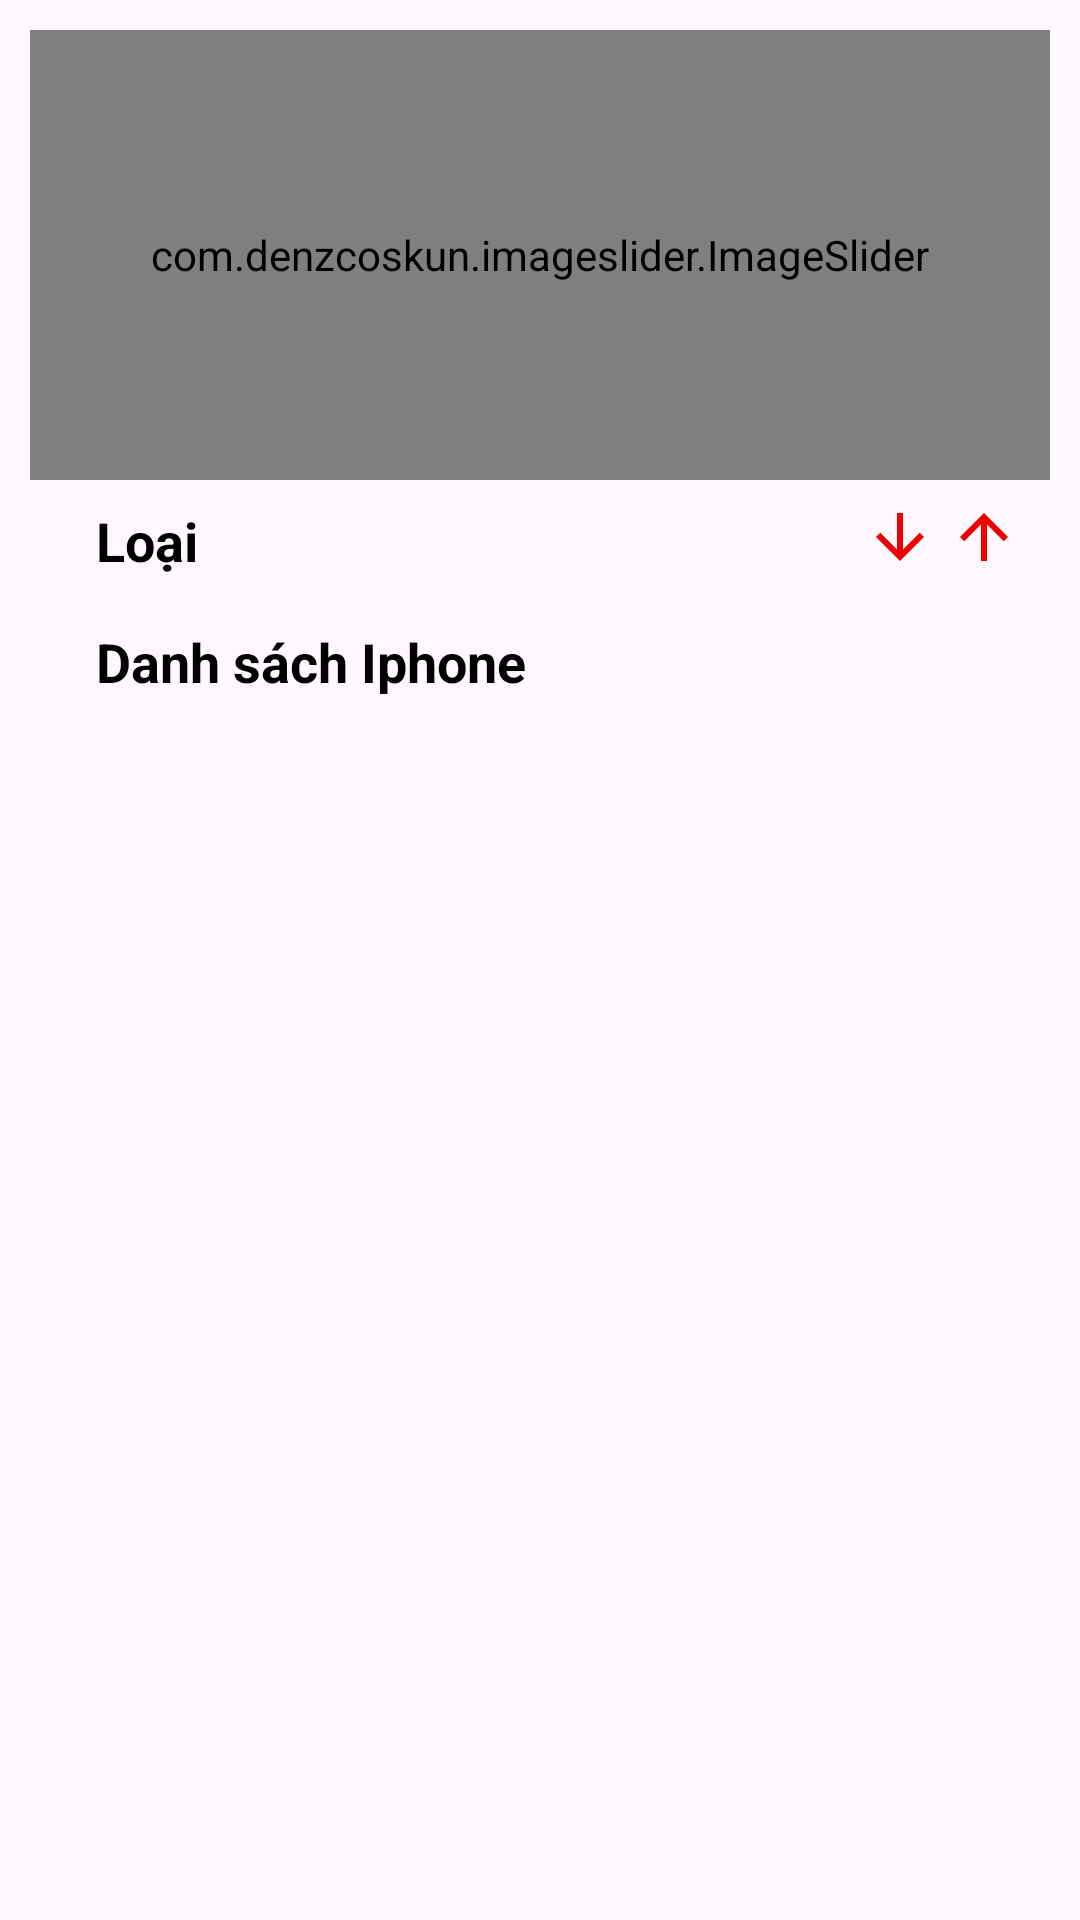

Icon click points for this 1080px×1920px phone screenshot, format [x,y]:
arrow downward: [900,537]
arrow upward: [984,537]
